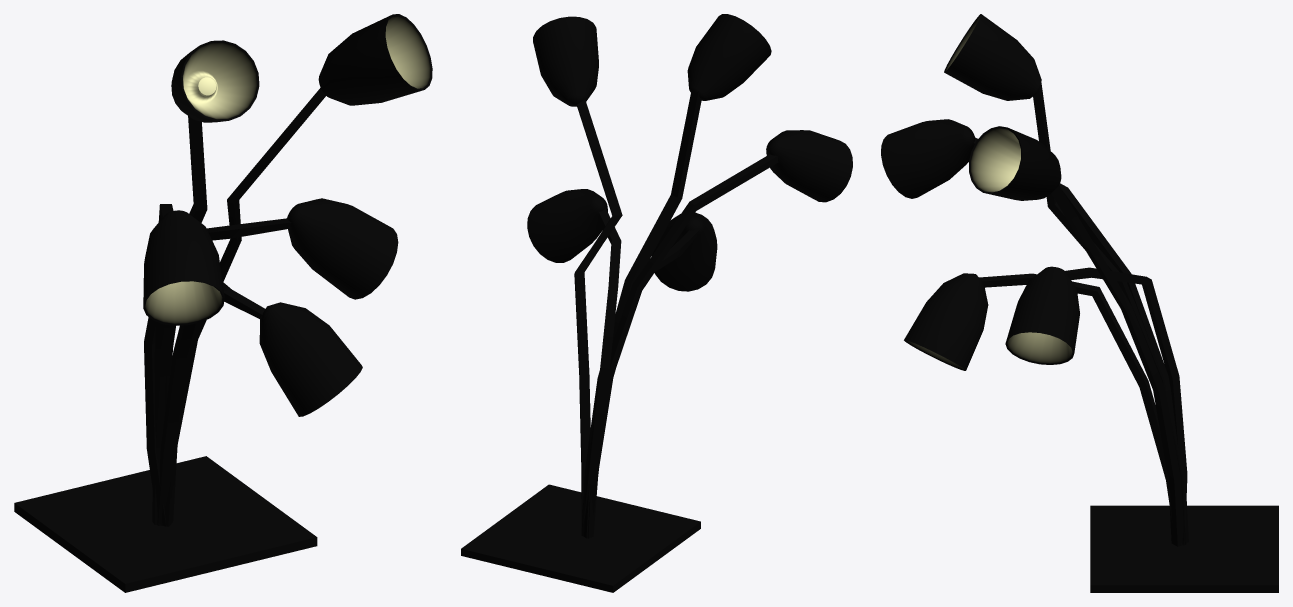
File: fiveHeadLamp.fbx
The picture shows the model from 3 angles, left to right: view 1: azimuth 30°, elevation 25°; view 2: azimuth 150°, elevation 25°; view 3: azimuth 270°, elevation 25°; orthographic projection. The views are drawn at different scales.
Parts seen in each view (by area): view 1: group1_polySurface1; view 2: group1_polySurface1; view 3: group1_polySurface1.
Part boxes in pixels (left/top/right/bottom): group1_polySurface1: left=14, top=14, right=432, bottom=592; group1_polySurface1: left=461, top=14, right=852, bottom=592; group1_polySurface1: left=881, top=14, right=1278, bottom=592.
Size of the model in its own units: 16.75 by 27.95 by 19.86.
